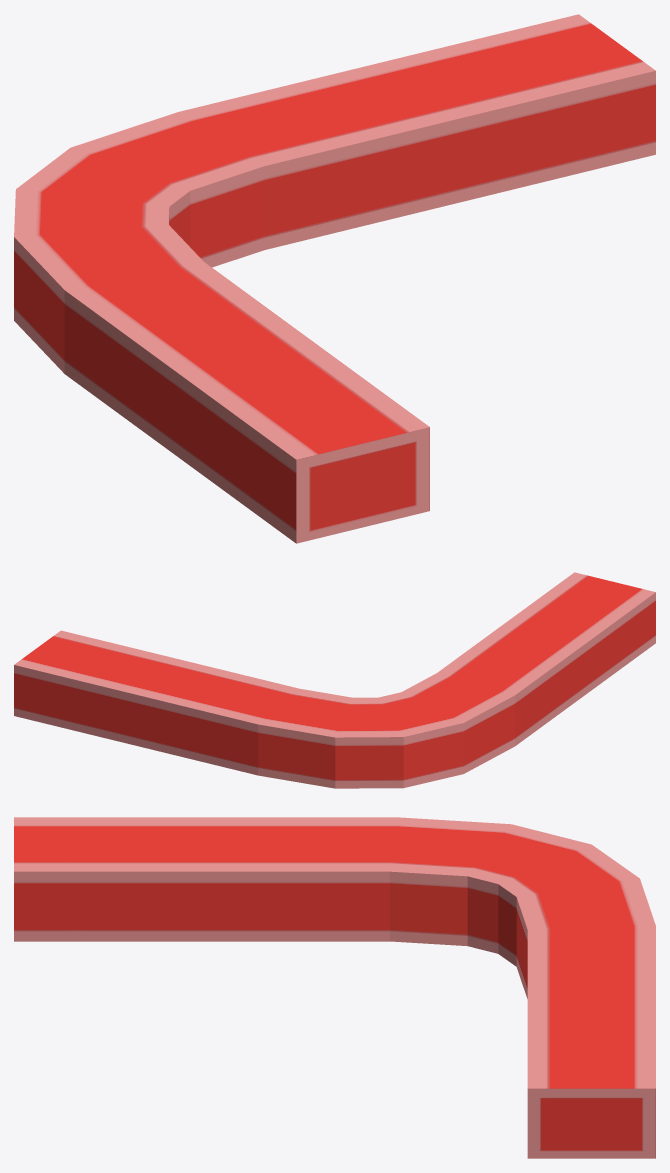
File: bian04.FBX
The picture shows the model from 3 angles, top to bottom: view 1: azimuth 30°, elevation 25°; view 2: azimuth 150°, elevation 25°; view 3: azimuth 270°, elevation 25°; orthographic projection. The views are drawn at different scales.
Parts seen in each view (by area): view 1: guai001; view 2: guai001; view 3: guai001.
Part boxes in pixels (x1,y1,x2,y2): guai001: [14, 14, 655, 543]; guai001: [14, 572, 655, 788]; guai001: [14, 817, 655, 1158].
Bounding box in the file's own units: 25 × 3 × 25.
